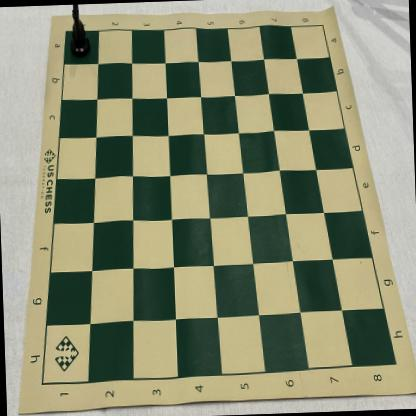knight: (68, 4, 91, 59)
